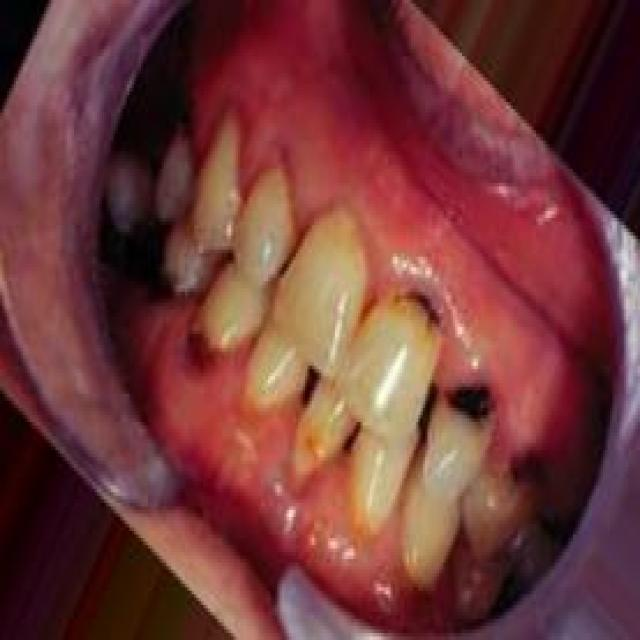caries: (436, 361, 502, 441), (392, 275, 452, 349), (291, 411, 336, 487), (176, 310, 223, 380)
